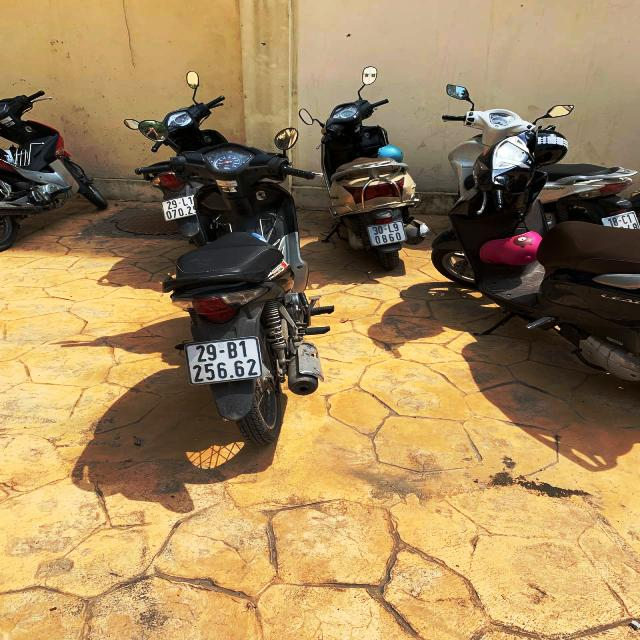license_plate: (184, 338, 264, 385), (368, 221, 409, 247)
